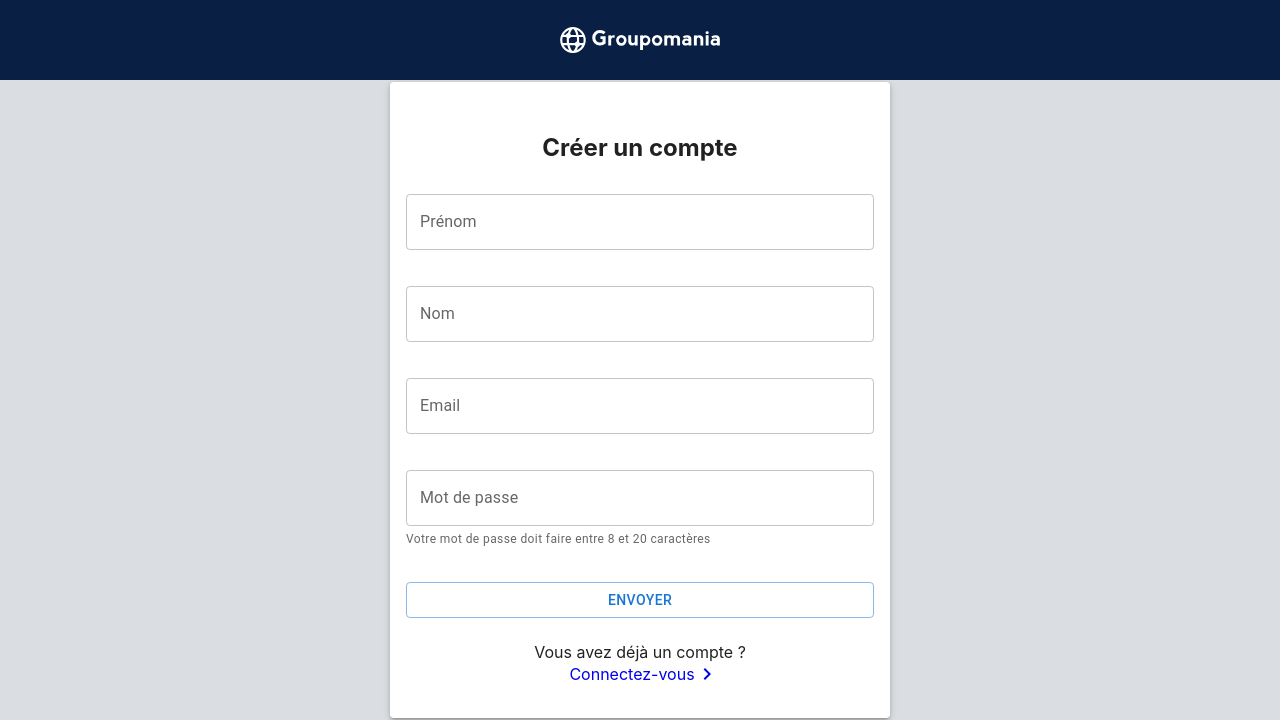
Sign up and log in › Error messages › shows required-related error messages
Step 1. Click the button with test id "submit" → (640, 601), box [406,582,874,619]
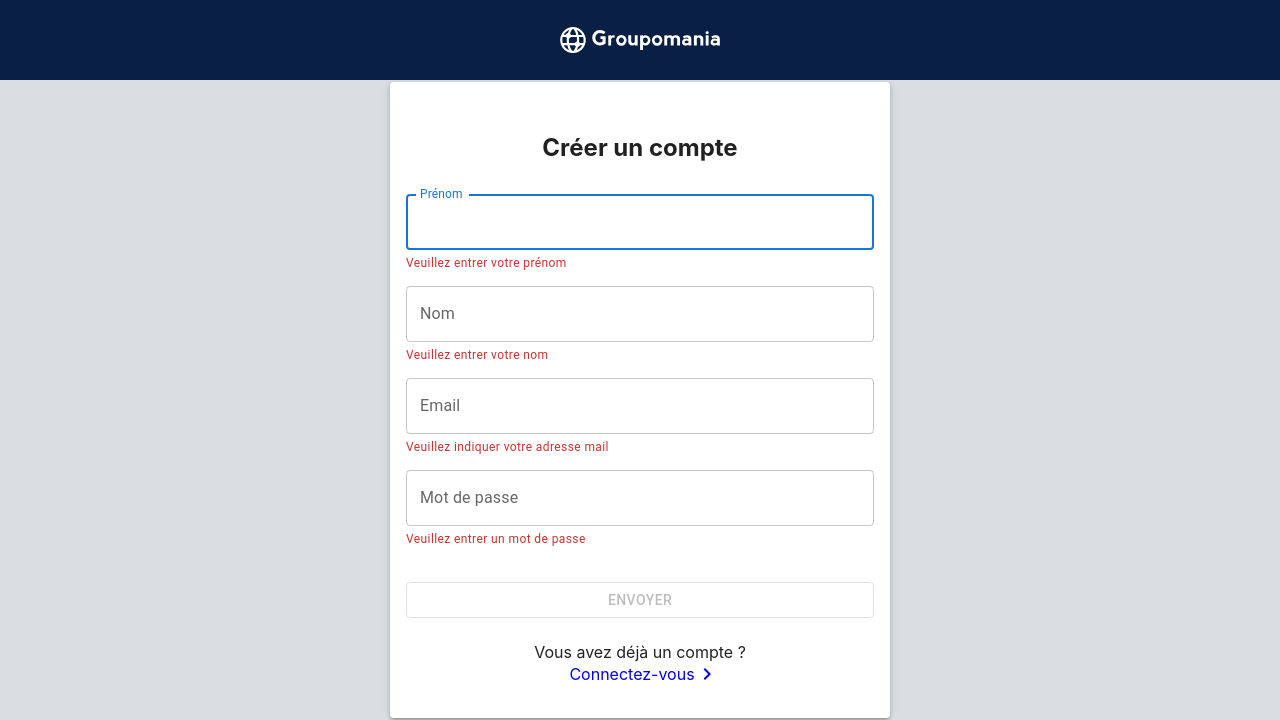
Now the text "Veuillez entrer votre prénom" is shown, box [406,256,567,270]
Now the text "Veuillez entrer votre nom" is shown, box [406,348,548,362]
Now the text "Veuillez indiquer votre adresse mail" is shown, box [406,440,609,454]
